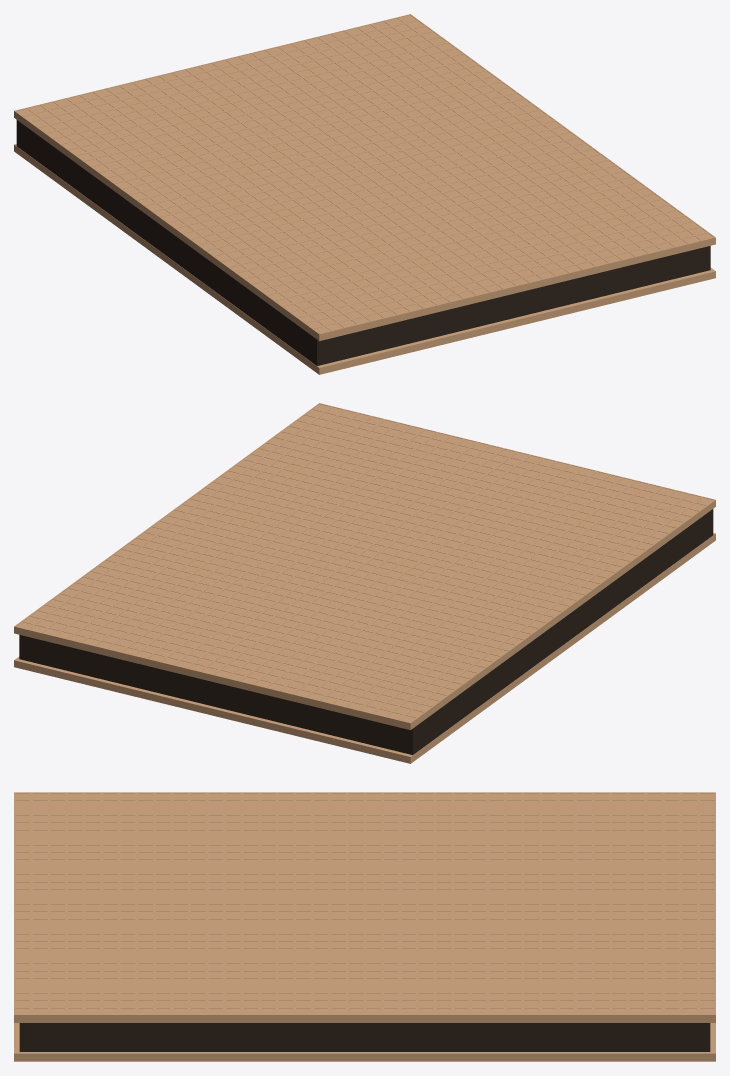
Rendered from schokowaffel.fbx.
3 views of the same model, one above another, from view 1: azimuth 30°, elevation 25°; view 2: azimuth 150°, elevation 25°; view 3: azimuth 270°, elevation 25° (orthographic). The views are drawn at different scales.
Visible parts, largest first — view 1: Waffel, Würfel, Waffel.1; view 2: Waffel, Würfel, Waffel.1; view 3: Waffel, Würfel, Waffel.1.
Boxes of the visible parts, left/top/right/bottom form: Waffel: left=14, top=14, right=715, bottom=340; Würfel: left=16, top=120, right=710, bottom=365; Waffel.1: left=14, top=144, right=715, bottom=374; Waffel: left=14, top=403, right=715, bottom=729; Würfel: left=19, top=509, right=713, bottom=754; Waffel.1: left=14, top=533, right=715, bottom=763; Waffel: left=14, top=792, right=715, bottom=1022; Würfel: left=19, top=1023, right=710, bottom=1051; Waffel.1: left=14, top=1023, right=715, bottom=1061.
Bounding box in the file's own units: 600 × 58.75 × 800.
